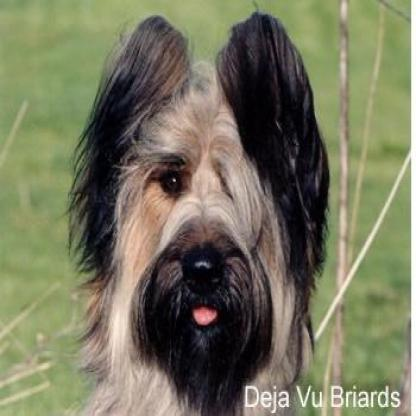briard: (64, 8, 325, 413)
